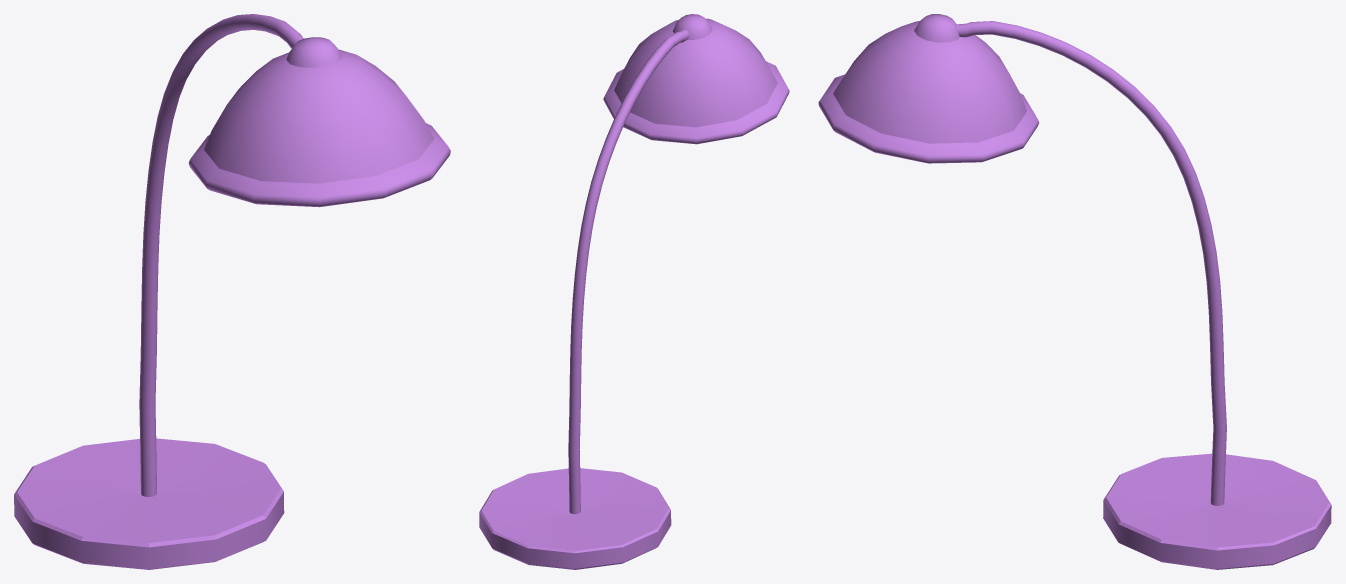
The model's file is Friday_AbbyLamp.fbx.
3 views of the same model, side by side, from view 1: azimuth 30°, elevation 25°; view 2: azimuth 150°, elevation 25°; view 3: azimuth 270°, elevation 25° (orthographic). The views are drawn at different scales.
Visible parts, largest first — view 1: Lamp; view 2: Lamp; view 3: Lamp.
Part boxes in pixels (x1,y1,x2,y2): Lamp: [14, 14, 450, 569]; Lamp: [479, 14, 789, 569]; Lamp: [818, 14, 1331, 569].
Bounding box in the file's own units: 32.15 × 79.05 × 72.29.
